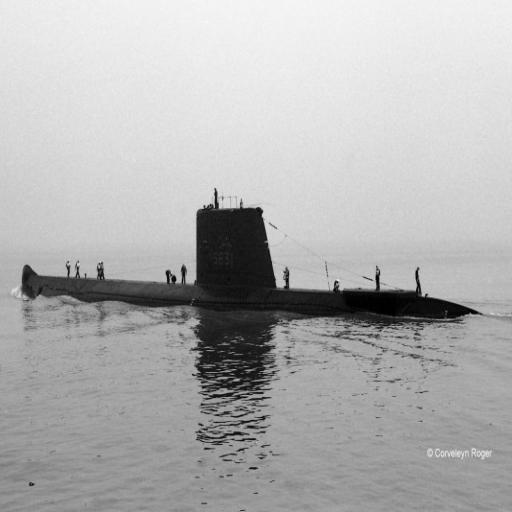submarine: (18, 207, 490, 317)
